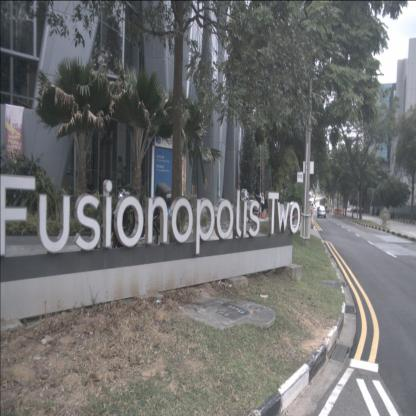human-pedestrian-adult: (259, 192, 265, 219), (264, 191, 269, 220)
movable_object-barrier: (334, 208, 342, 216)
movable_object-trafficcone: (262, 208, 266, 218), (259, 206, 262, 219), (263, 210, 266, 219)
vehicle-car: (317, 205, 326, 218), (308, 202, 314, 211)
vehicle-motorcycle: (93, 182, 172, 257)
